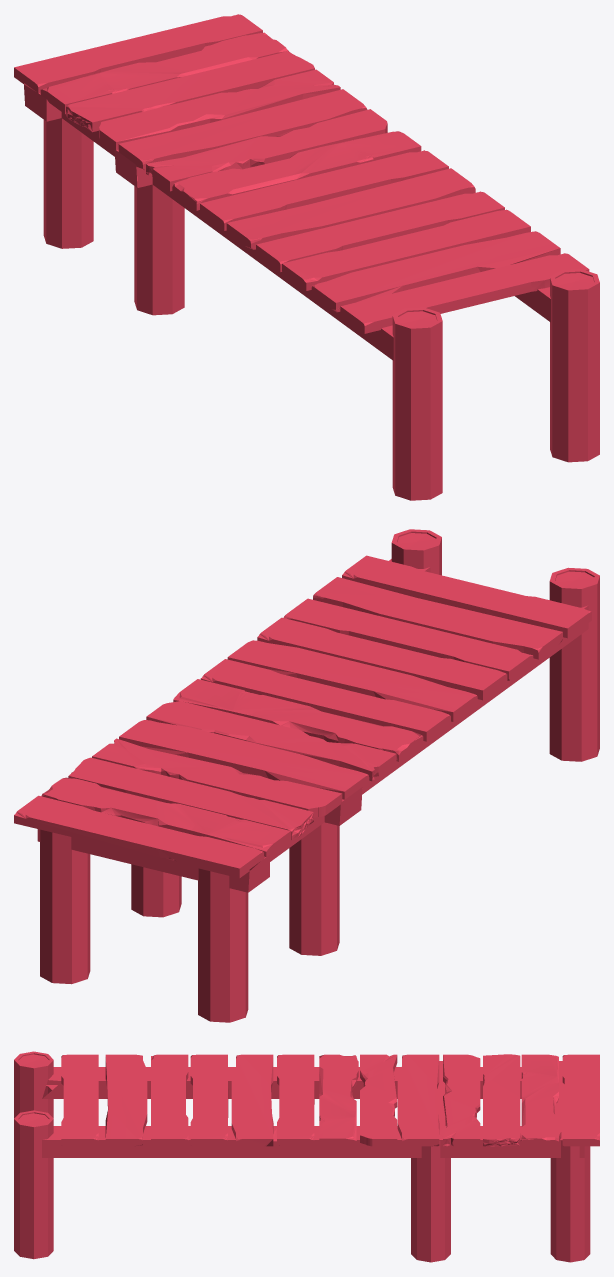
Rendered from Pomostt I.fbx.
3 renders of one model, top to bottom at view 1: azimuth 30°, elevation 25°; view 2: azimuth 150°, elevation 25°; view 3: azimuth 270°, elevation 25°, orthographic. The views are drawn at different scales.
Parts seen in each view (by area): view 1: Pomost_L; view 2: Pomost_L; view 3: Pomost_L.
Part boxes in pixels (left/top/right/bottom): Pomost_L: left=14, top=14, right=599, bottom=500; Pomost_L: left=14, top=529, right=599, bottom=1022; Pomost_L: left=14, top=1051, right=599, bottom=1262.
Bounding box in the file's own units: 306 × 225 × 883.
